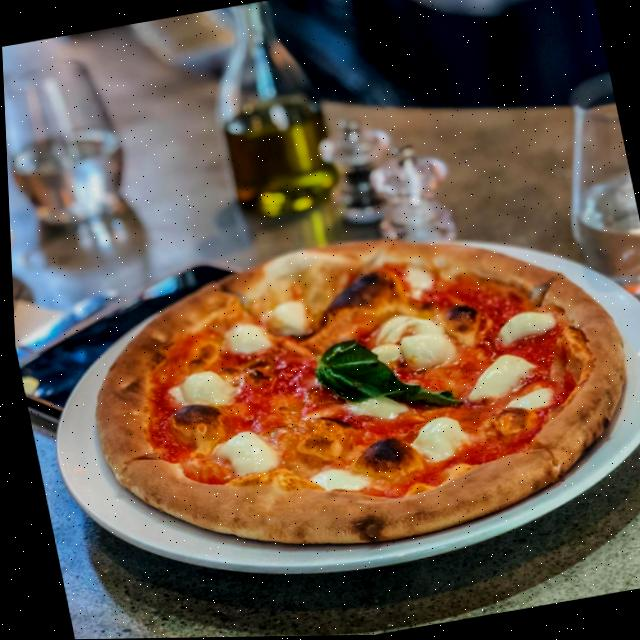basil: (305, 321, 463, 432)
pizza: (62, 197, 640, 591)
